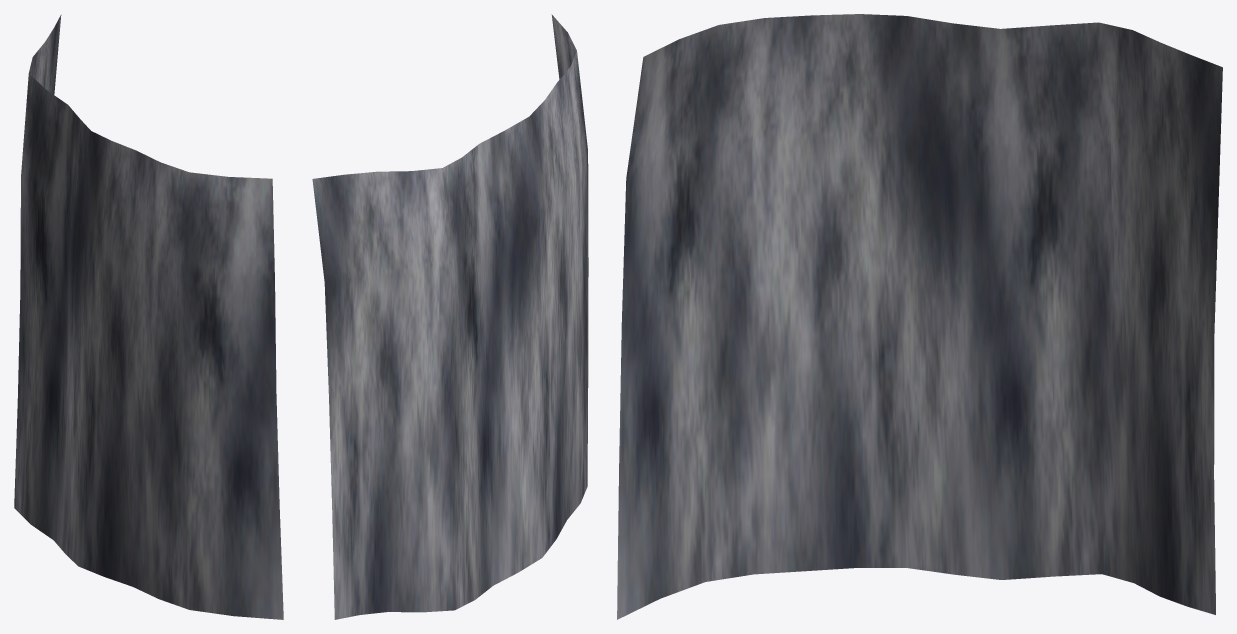
File: SWORDLIGHT20_MESH01.fbx
3 views of the same model, side by side, from view 1: azimuth 30°, elevation 25°; view 2: azimuth 150°, elevation 25°; view 3: azimuth 270°, elevation 25° (orthographic). The views are drawn at different scales.
Visible parts, largest first — view 1: SWORDLIGHT20_MESH01; view 2: SWORDLIGHT20_MESH01; view 3: SWORDLIGHT20_MESH01.
Boxes of the visible parts, box(x1,y1,x2,y2) form: SWORDLIGHT20_MESH01: box(14, 14, 283, 619); SWORDLIGHT20_MESH01: box(312, 14, 588, 619); SWORDLIGHT20_MESH01: box(617, 14, 1222, 619).
Bounding box in the file's own units: 46594 × 188132 × 179902.
Materials: 1 (1 with a texture image).
